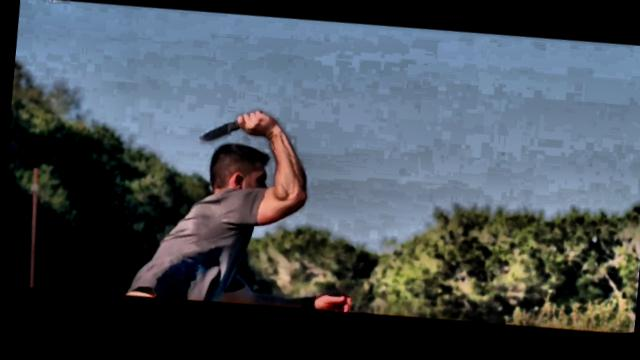knife: (190, 99, 276, 154)
